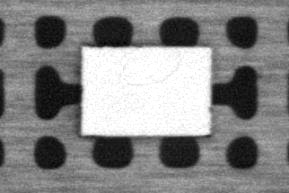DIE_CRACK: (118, 55, 184, 87)
